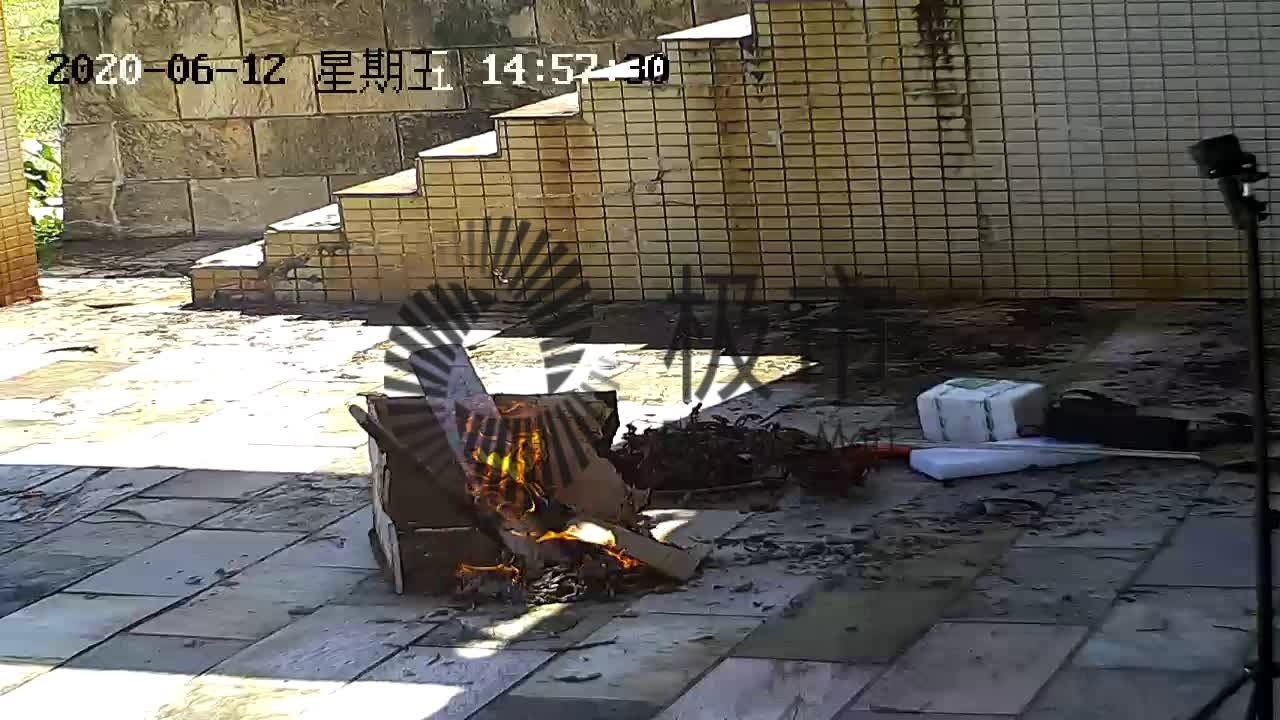fire: (457, 408, 633, 583)
